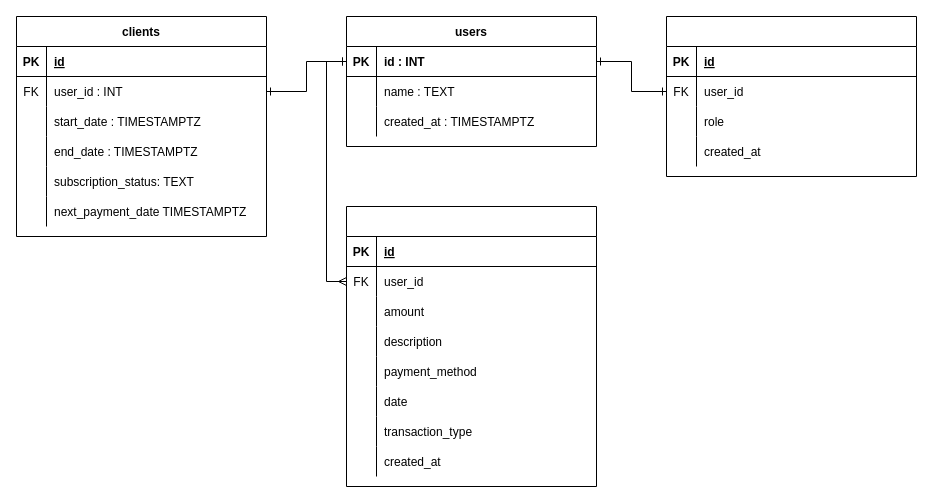
Some shapes in this 933 by 503 pixel diagram are drawn without their labels. The box of each missing label's shape, as (x1, y1, x2, y2) in pixels:
bills: (346, 206, 596, 486)
messages: (666, 16, 916, 176)
